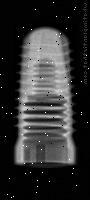Camlog: (13, 23, 77, 167)
